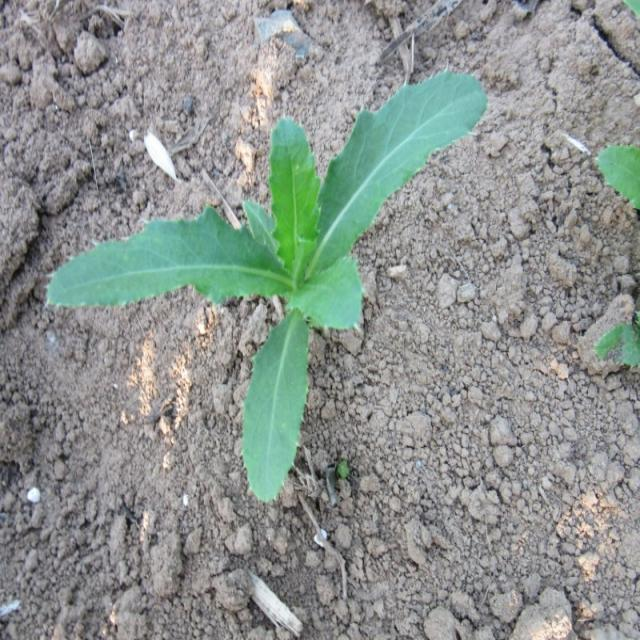cs: (45, 70, 488, 504)
